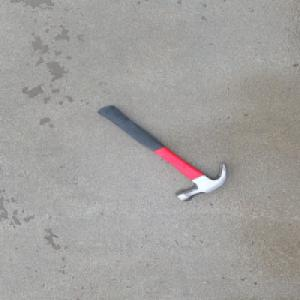Hammer: (95, 103, 229, 202)
